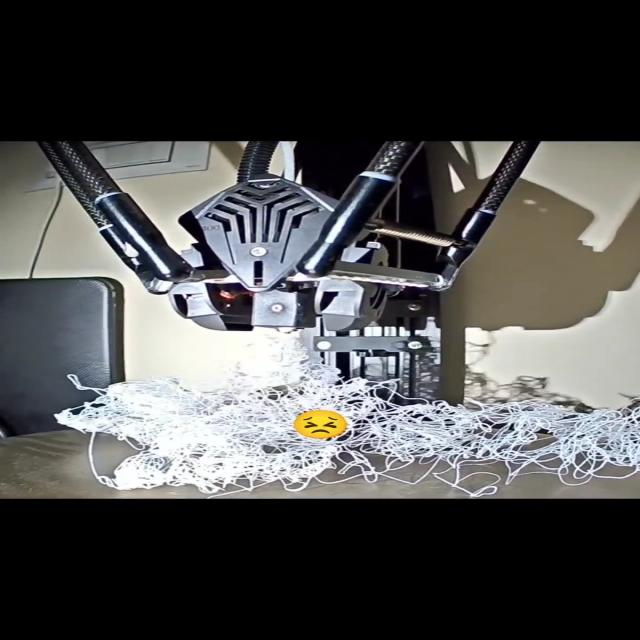spaghetti: (60, 378, 640, 496)
